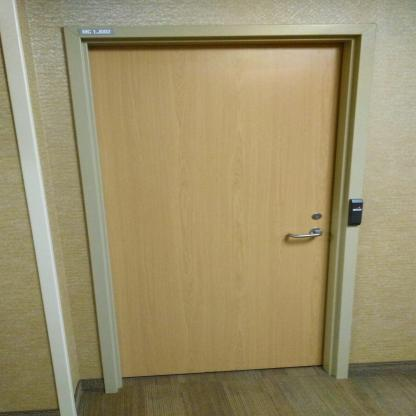door: (106, 29, 330, 374)
lever: (288, 226, 321, 243)
